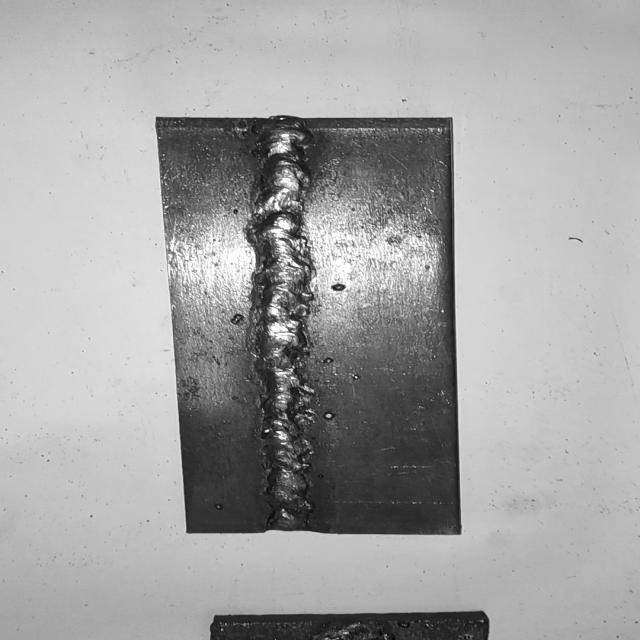Good Weld: (251, 121, 320, 526)
